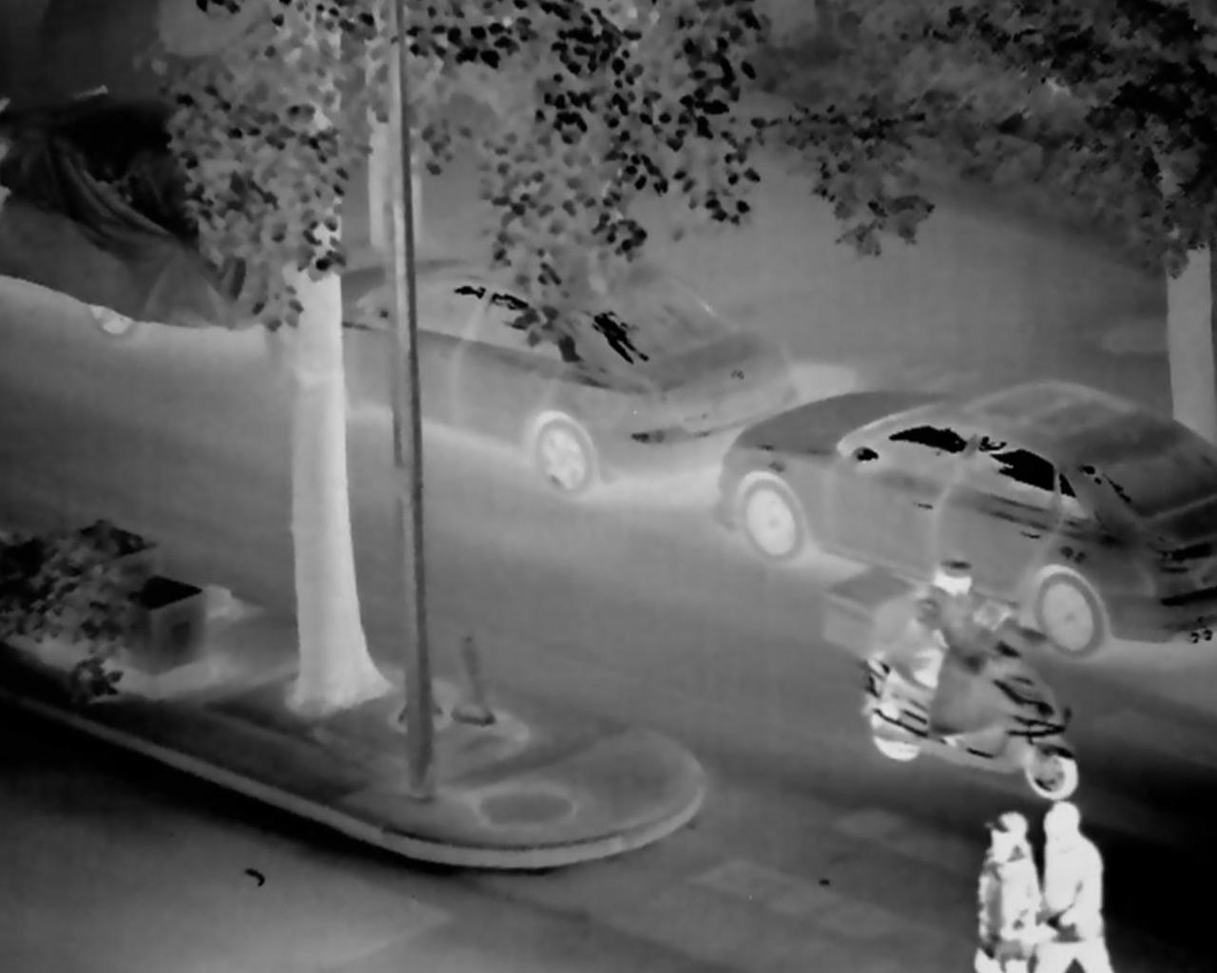person: (917, 552, 1002, 760), (1037, 804, 1117, 973), (971, 810, 1040, 973)
